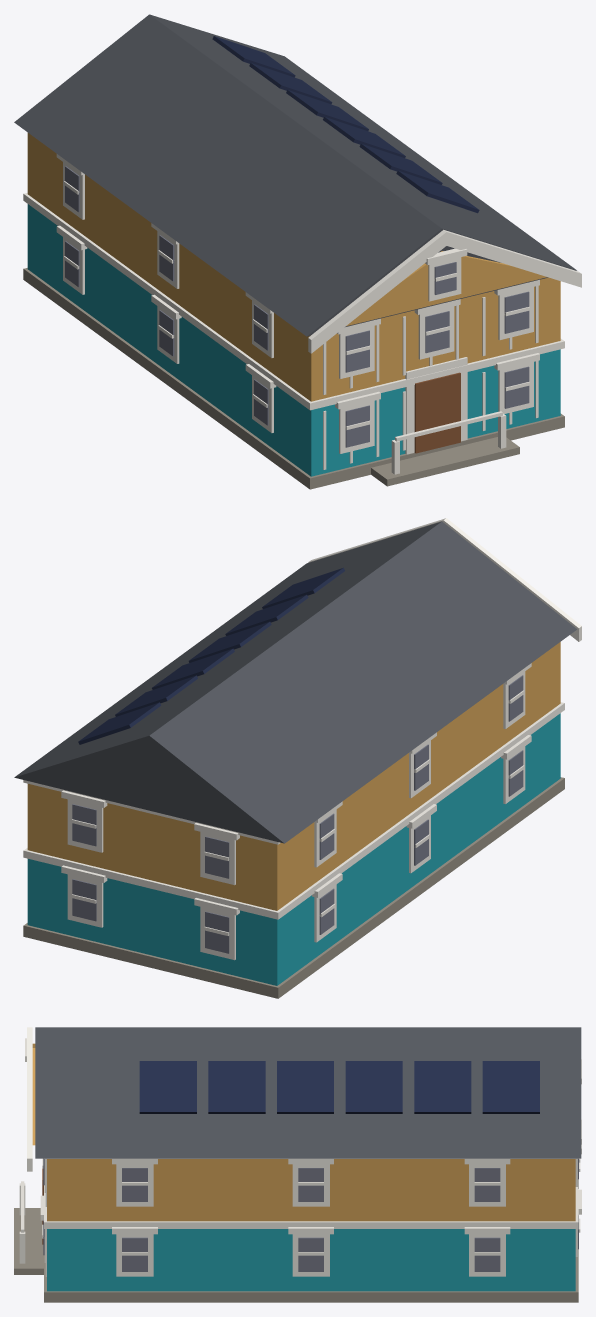
The model's file is house-1x2-2f-valparaiso-a-solar.glb.
The picture shows the model from 3 angles, top to bottom: view 1: azimuth 30°, elevation 25°; view 2: azimuth 150°, elevation 25°; view 3: azimuth 270°, elevation 25°; orthographic projection. The views are drawn at different scales.
Visible parts, largest first — view 1: house-1x2-2f-valparaiso-a-solar; view 2: house-1x2-2f-valparaiso-a-solar; view 3: house-1x2-2f-valparaiso-a-solar.
Boxes of the visible parts, x1,y1,x2,y2 form: house-1x2-2f-valparaiso-a-solar: (14,14,581,489); house-1x2-2f-valparaiso-a-solar: (14,518,581,998); house-1x2-2f-valparaiso-a-solar: (14,1027,581,1302).
Bounding box in the file's own units: 1.02 × 0.84 × 1.99.
Materials: 1 (1 with a texture image).
